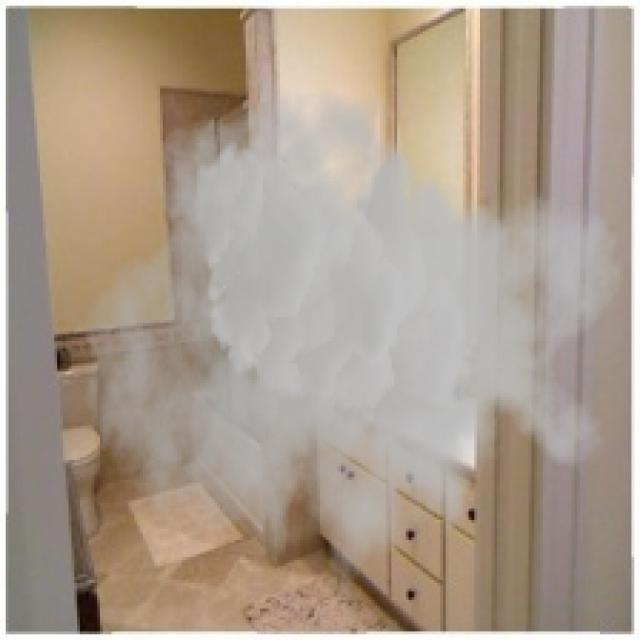Smoke: (83, 72, 626, 618)
